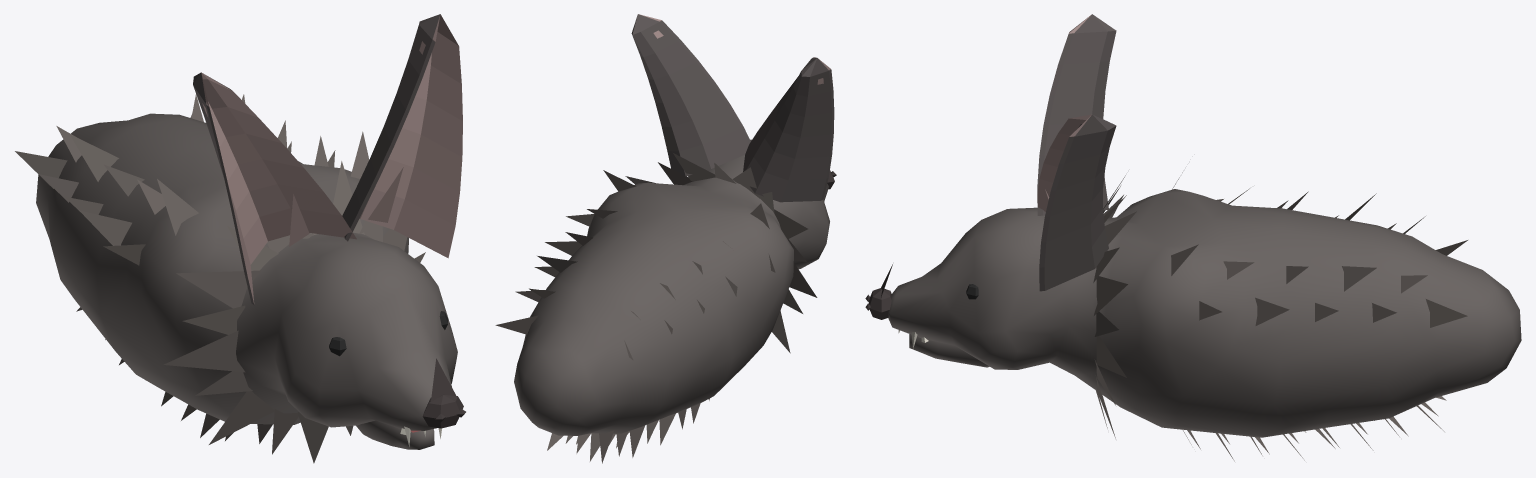
The model's file is bat_body.glb.
The picture shows the model from 3 angles, left to right: view 1: azimuth 30°, elevation 25°; view 2: azimuth 150°, elevation 25°; view 3: azimuth 270°, elevation 25°; orthographic projection. The views are drawn at different scales.
Visible parts, largest first — view 1: fur_mesh, tuft, ear_inner_1, ear_inner_-1, ear_1, nose, jaw_mesh, ear_-1; view 2: fur_mesh, ear_1, ear_-1, tuft; view 3: fur_mesh, ear_1, tuft, ear_-1, ear_inner_1, jaw_mesh, nose.
Boxes of the visible parts, x1,y1,x2,y2 form: fur_mesh: [36, 113, 457, 430]; tuft: [15, 94, 425, 463]; ear_inner_1: [359, 14, 462, 258]; ear_inner_-1: [201, 72, 356, 303]; ear_1: [342, 14, 440, 241]; nose: [422, 358, 465, 428]; jaw_mesh: [356, 420, 434, 449]; ear_-1: [193, 72, 254, 305]; fur_mesh: [514, 139, 829, 435]; ear_1: [631, 14, 750, 176]; ear_-1: [743, 58, 834, 202]; tuft: [495, 153, 817, 463]; fur_mesh: [888, 189, 1521, 437]; ear_1: [1039, 114, 1116, 291]; tuft: [1093, 172, 1467, 461]; ear_-1: [1037, 14, 1116, 215]; ear_inner_1: [1037, 114, 1091, 211]; jaw_mesh: [909, 334, 989, 367]; nose: [865, 264, 892, 319].
Bounding box in the file's own units: 0.1158 × 0.1789 × 0.2717.
